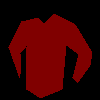abbigliamento_uomo: (8, 13, 92, 98)
